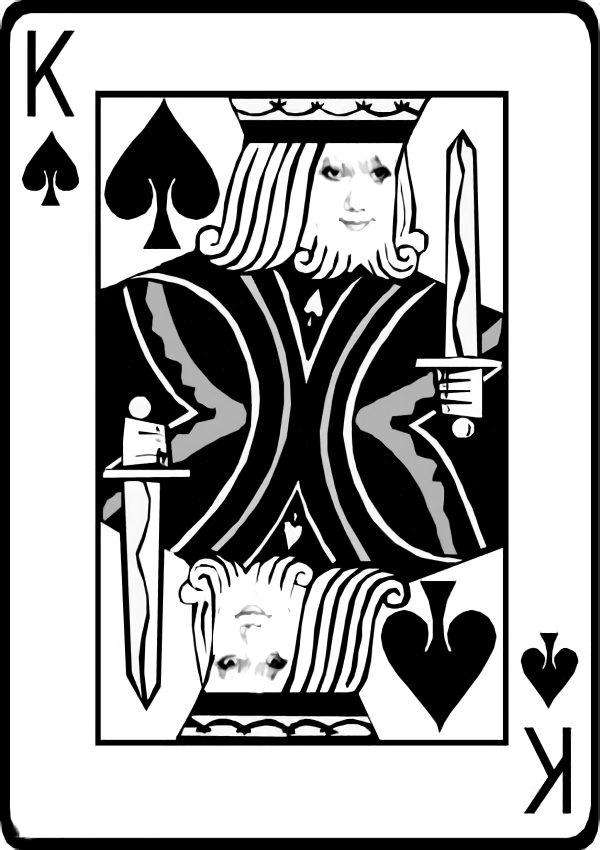dragon: (209, 590, 293, 686), (322, 152, 394, 243)
